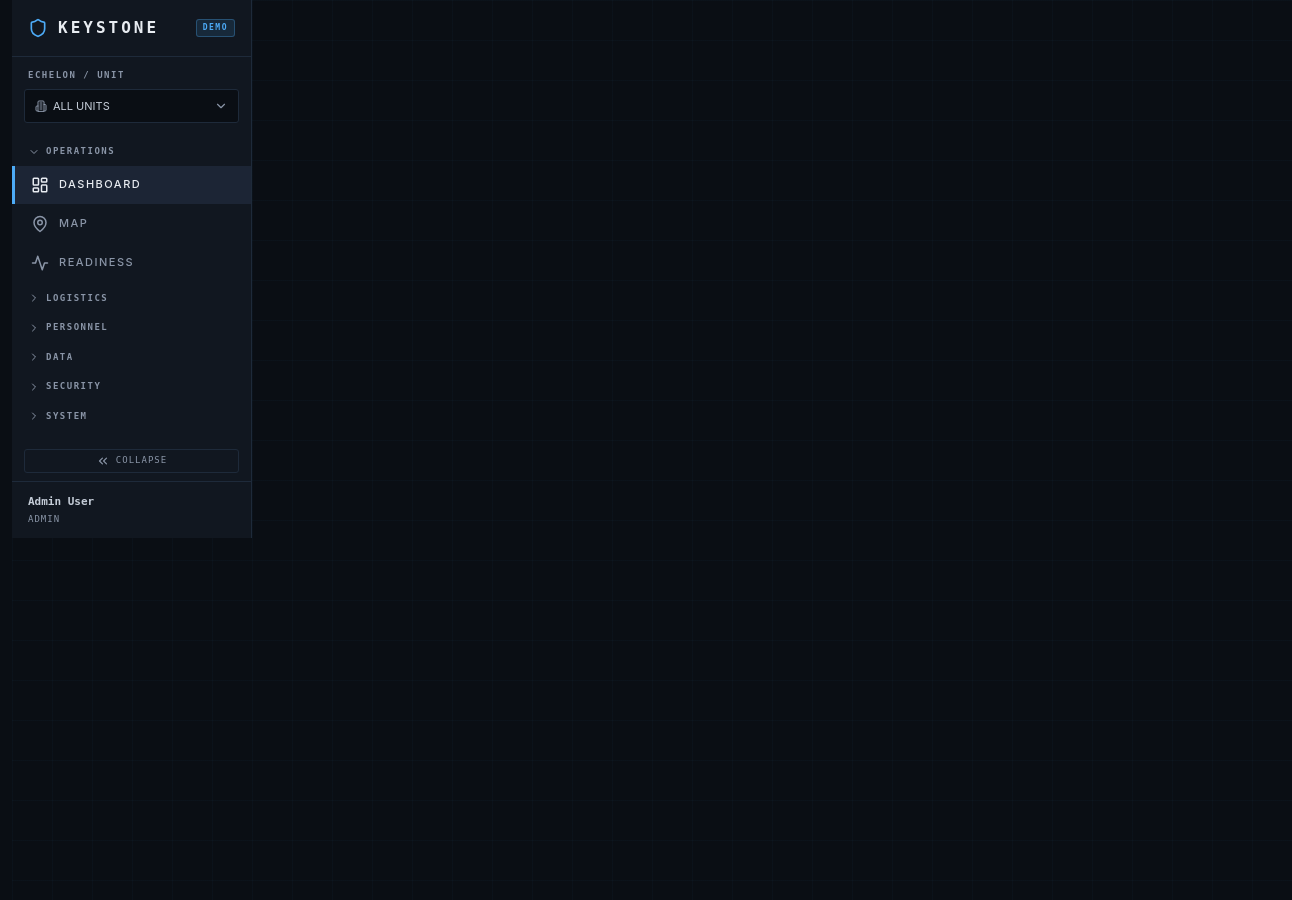
Test: Sidebar › clicking a group header expands it to show items
Check: the text "SUPPLY" is not shown
Note: Click LOGISTICS header to expand it
Click the button "LOGISTICS": (132, 298) [12, 286, 251, 311]
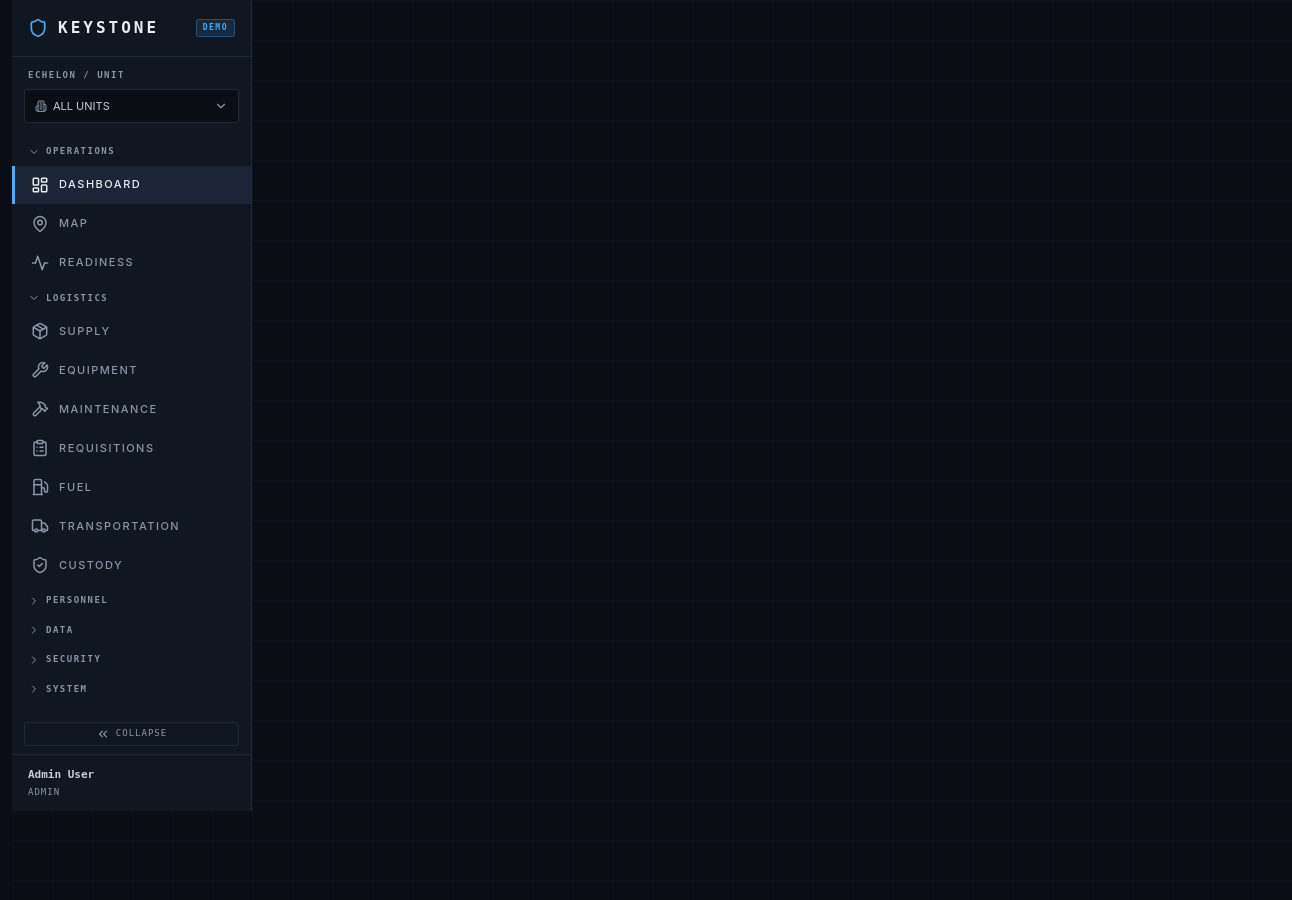
Check: the text "SUPPLY" is shown, box [59, 324, 111, 338]
